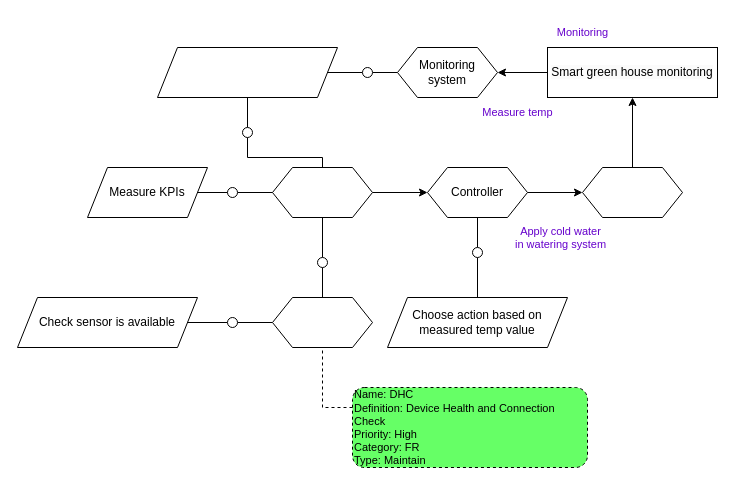
Some shapes in this 735 by 485 pixel diagram are drawn without their labels. Each missing label, with the centre of its shape:
Actuators: the point at 632,192
DHC: the point at 322,322
Monitor status of soil: the point at 247,72
Sensor: the point at 322,192
